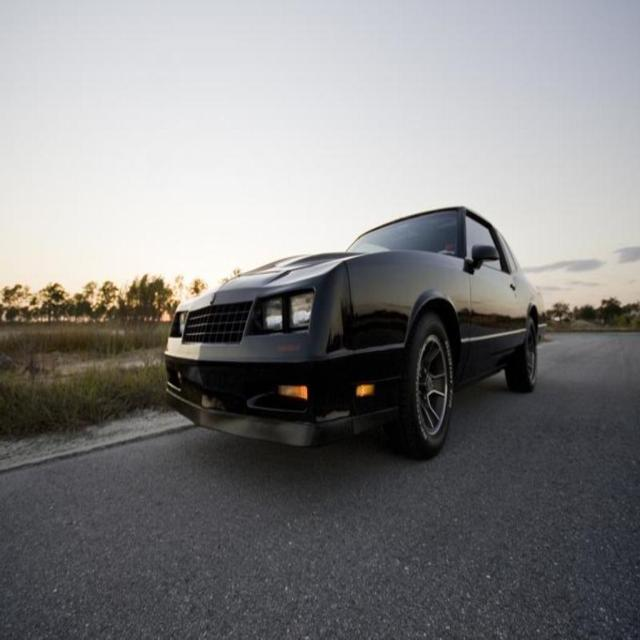car: (165, 203, 547, 459)
